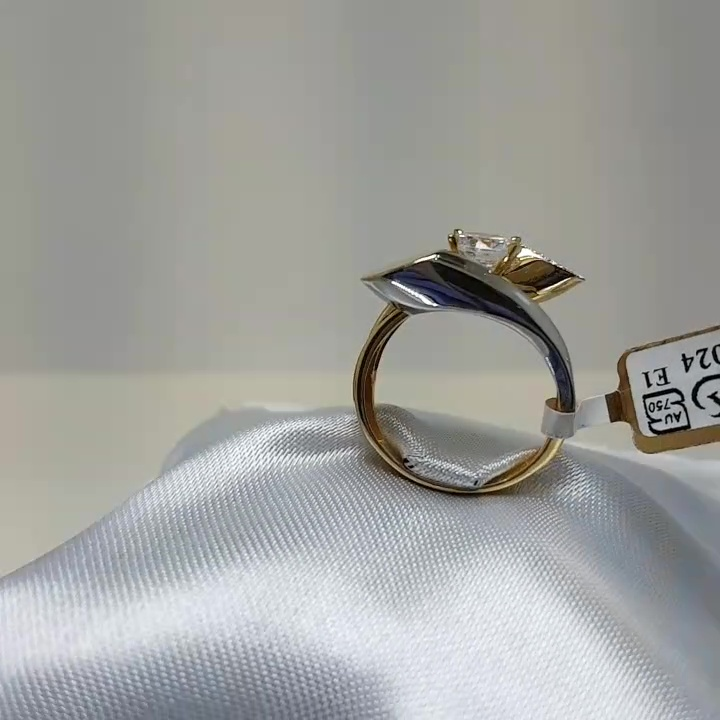Ring 7: (330, 212, 607, 521)
